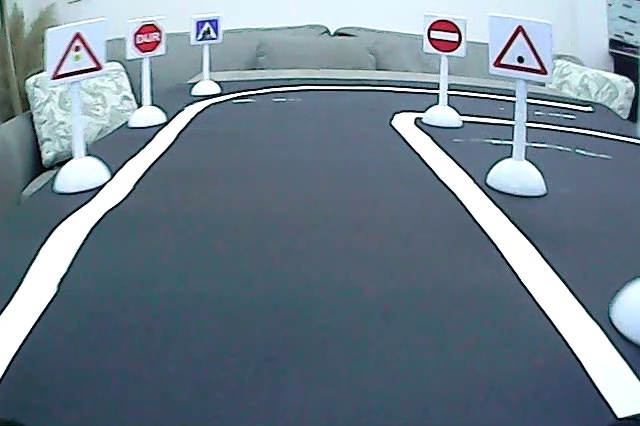do not enter: (425, 17, 464, 55)
green light: (491, 20, 551, 82)
red light: (49, 28, 106, 82)
school crossing: (195, 16, 220, 43)
stop sign: (130, 20, 165, 56)
